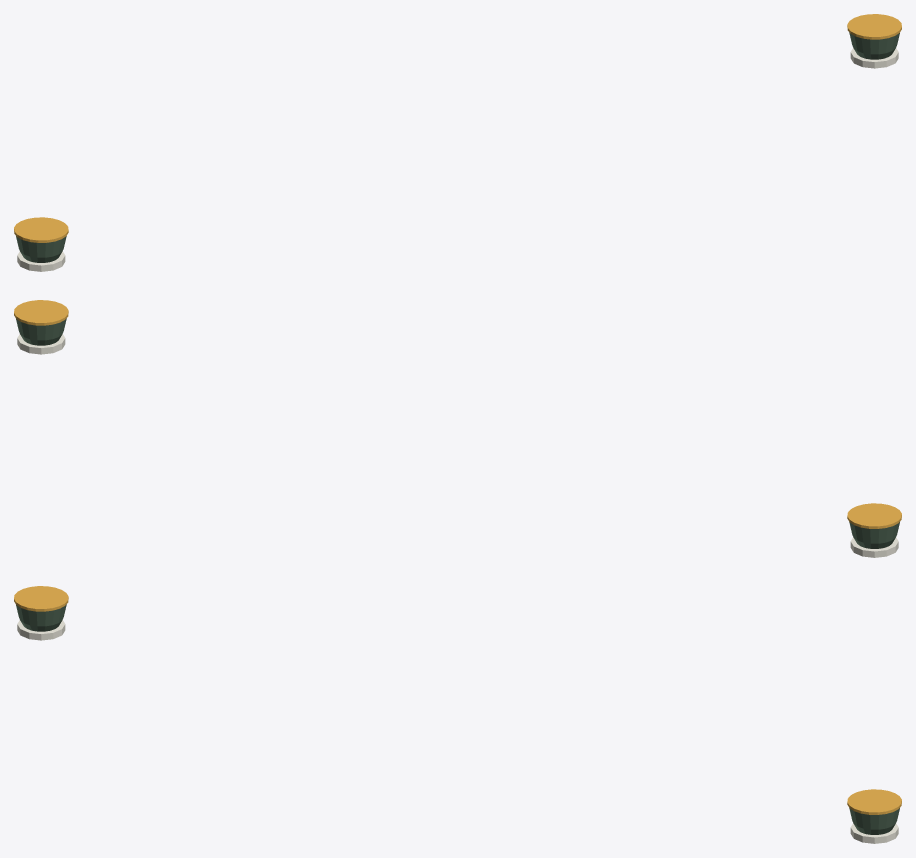
Rendered from SM_07_Courtyard_Vats.fbx.
3 views of the same model, one above another, from view 1: azimuth 30°, elevation 25°; view 2: azimuth 150°, elevation 25°; view 3: azimuth 330°, elevation 25° (orthographic).
Parts seen in each view (by area): view 1: Courtyard_Vats; view 2: Courtyard_Vats; view 3: Courtyard_Vats.
Boxes of the visible parts, <box> form: Courtyard_Vats: <box>14,14,901,271</box>; Courtyard_Vats: <box>14,300,901,557</box>; Courtyard_Vats: <box>14,586,901,843</box>.
Bounding box in the file's own units: 3594 × 194 × 128.
